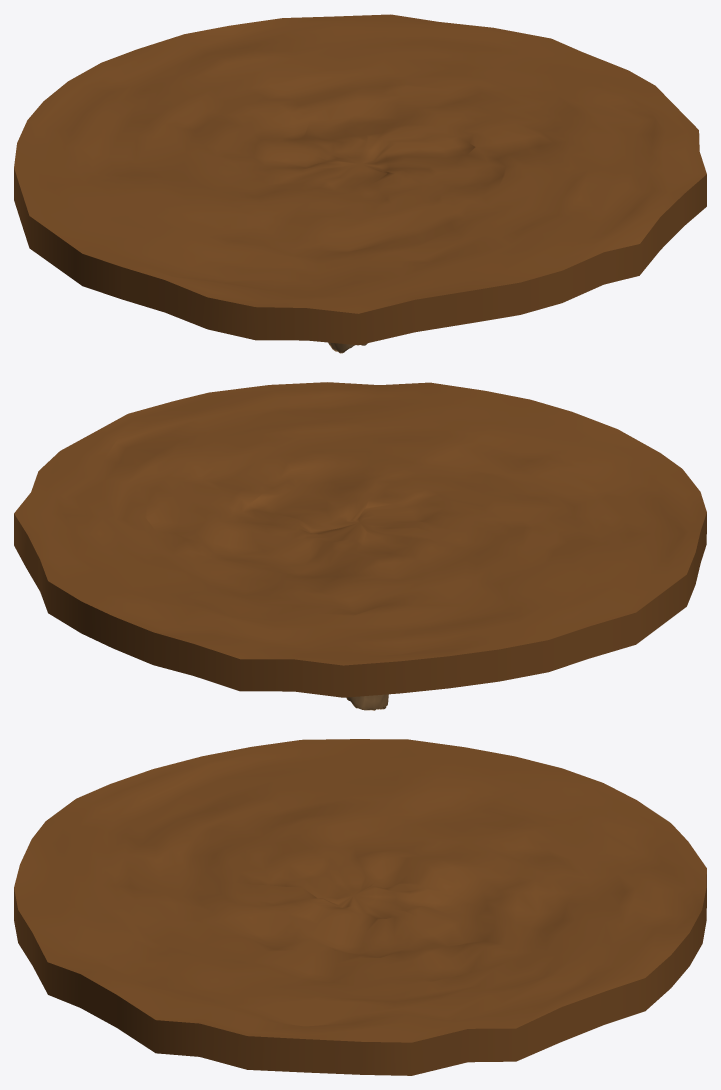
The model's file is someBODY.fbx.
The picture shows the model from 3 angles, top to bottom: view 1: azimuth 30°, elevation 25°; view 2: azimuth 150°, elevation 25°; view 3: azimuth 270°, elevation 25°; orthographic projection. The views are drawn at different scales.
Visible parts, largest first — view 1: pCylinder2; view 2: pCylinder2, polySurface1; view 3: pCylinder2.
Part boxes in pixels (box(x1,y1,x2,y2)): pCylinder2: box(14, 14, 706, 345); pCylinder2: box(14, 382, 706, 697); polySurface1: box(346, 694, 388, 710); pCylinder2: box(14, 739, 706, 1075).
Size of the model in its own units: 38.92 by 11.53 by 37.77.
